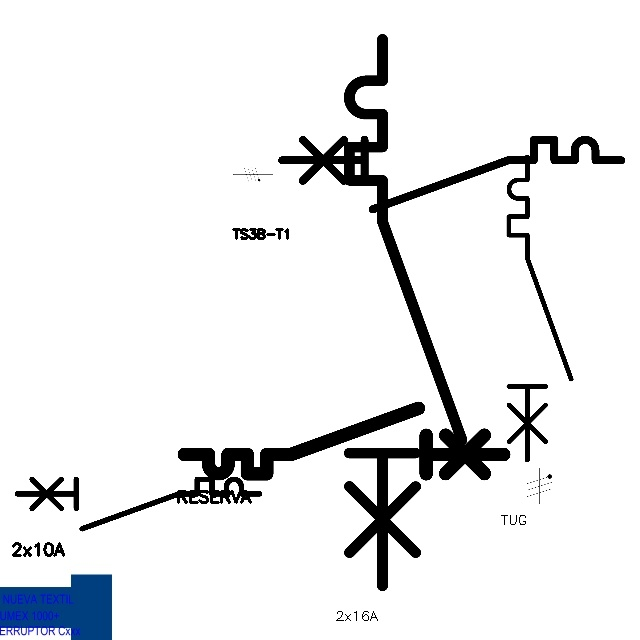interruptor_termomagnetico: (335, 25, 475, 600), (273, 131, 629, 218), (176, 400, 511, 482), (501, 149, 579, 467), (11, 473, 266, 535)
